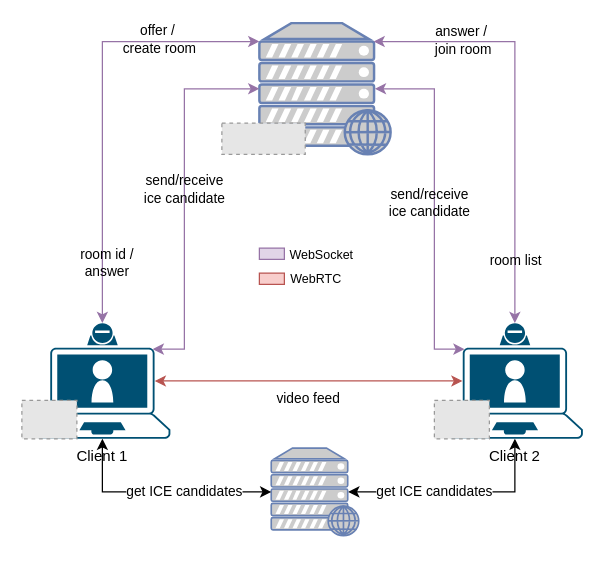
Some shapes in this 605 by 583 pixel diagram are drawn without their labels. Grey dashed boxes stand in for pictures. The box of each missing label's shape, as (x1, y1, x2, y2) in pixels:
Signaling Server: (258, 21, 391, 155)
STUN/TURN servers: (269, 446, 359, 536)
